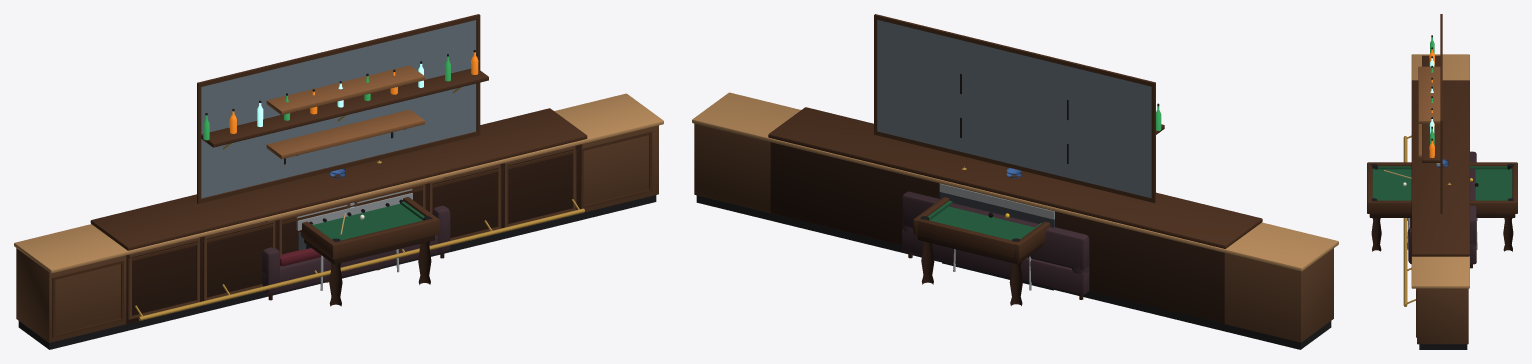
Rendered from furniture.glb.
The picture shows the model from 3 angles, left to right: view 1: azimuth 30°, elevation 25°; view 2: azimuth 150°, elevation 25°; view 3: azimuth 270°, elevation 25°; orthographic projection. The views are drawn at different scales.
Visible parts, largest first — view 1: bar_counter, back_bar, pass_counter, pool_table, pantry_shelf, sofa, kitchen_range; view 2: bar_counter, back_bar, pass_counter, sofa, pool_table, kitchen_range; view 3: bar_counter, pass_counter, pool_table, back_bar, pantry_shelf, sofa.
Boxes of the visible parts, x1,y1,x2,y2 form: bar_counter: (90,108,587,331); back_bar: (197,14,488,203); pass_counter: (14,93,663,349); pool_table: (300,197,439,306); pantry_shelf: (266,65,424,164); sofa: (262,205,450,300); kitchen_range: (296,189,412,250); bar_counter: (768,107,1262,331); back_bar: (874,14,1164,202); pass_counter: (692,92,1338,349); sofa: (902,191,1089,299); pool_table: (913,197,1050,305); kitchen_range: (939,183,1054,290); bar_counter: (1403,80,1469,306); pass_counter: (1411,54,1469,349); pool_table: (1367,162,1517,251); back_bar: (1422,14,1442,213); pantry_shelf: (1418,66,1440,157); sofa: (1408,151,1476,268).
Size of the model in its own units: 8 by 2.71 by 2.2.
